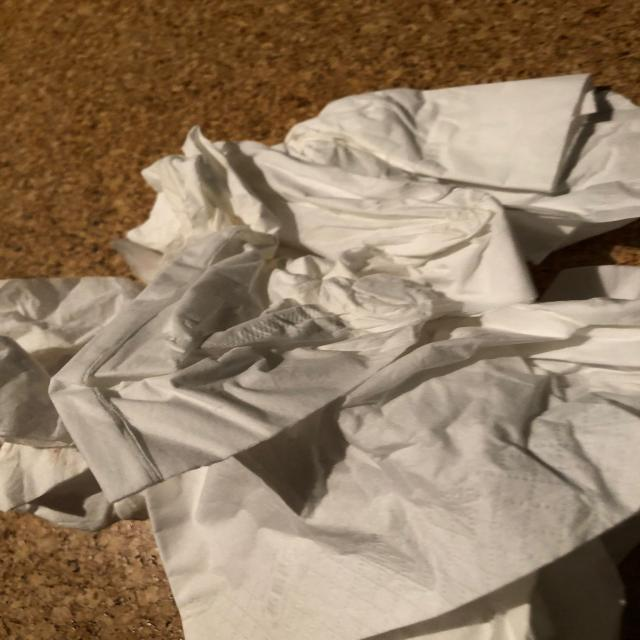kitchen paper: (41, 231, 640, 640), (110, 134, 569, 320), (283, 68, 640, 266)
